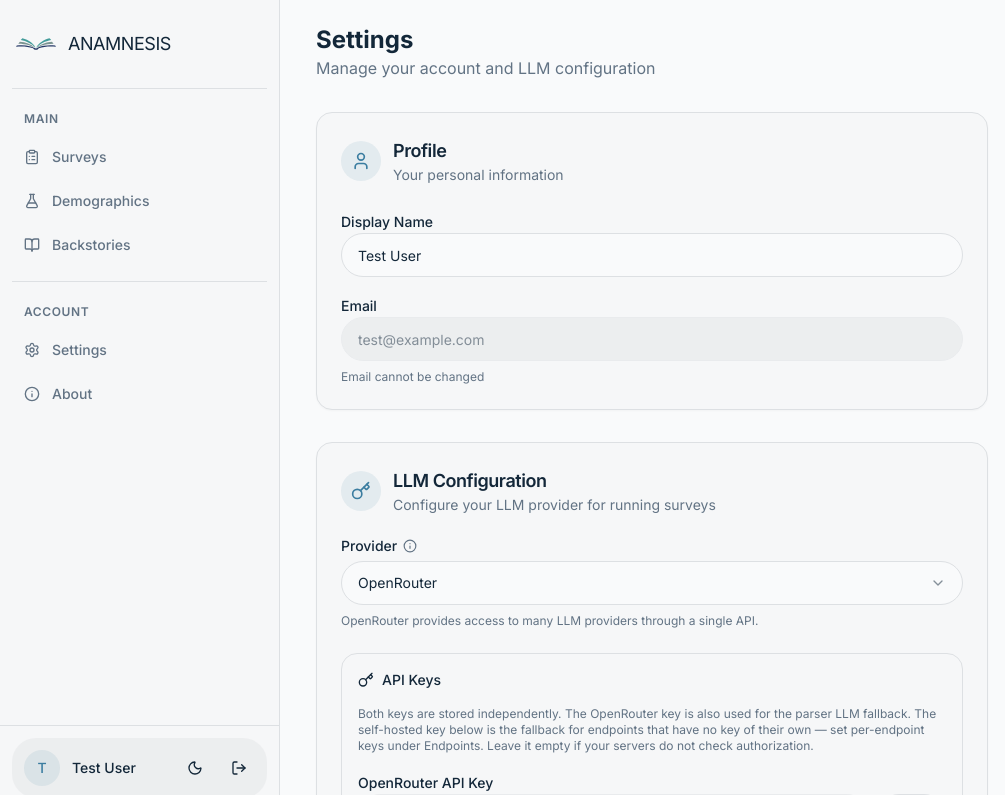
Settings Page - API Key Management › Profile Autosave › saves profile changes automatically, without a manual save click
Replace the text in the field labelled "Display Name" with "New Name": [652, 255] box x1=341 y1=233 x2=963 y2=277
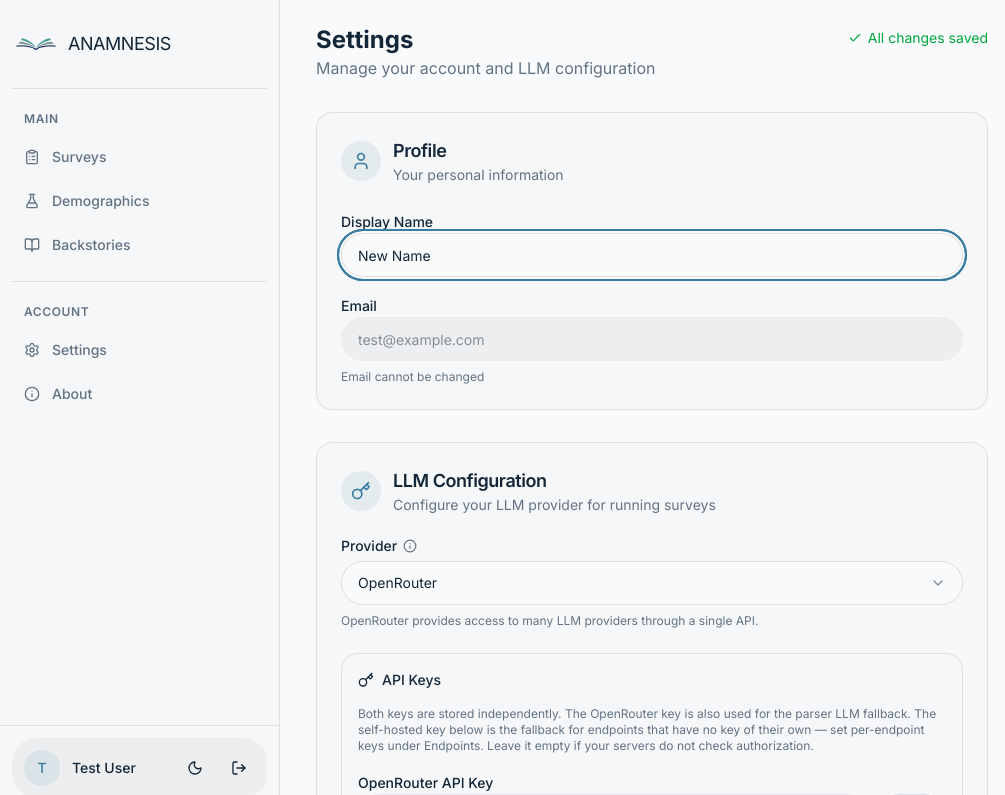
Result: the text "All changes saved" is shown at x1=868 y1=28 x2=988 y2=48
